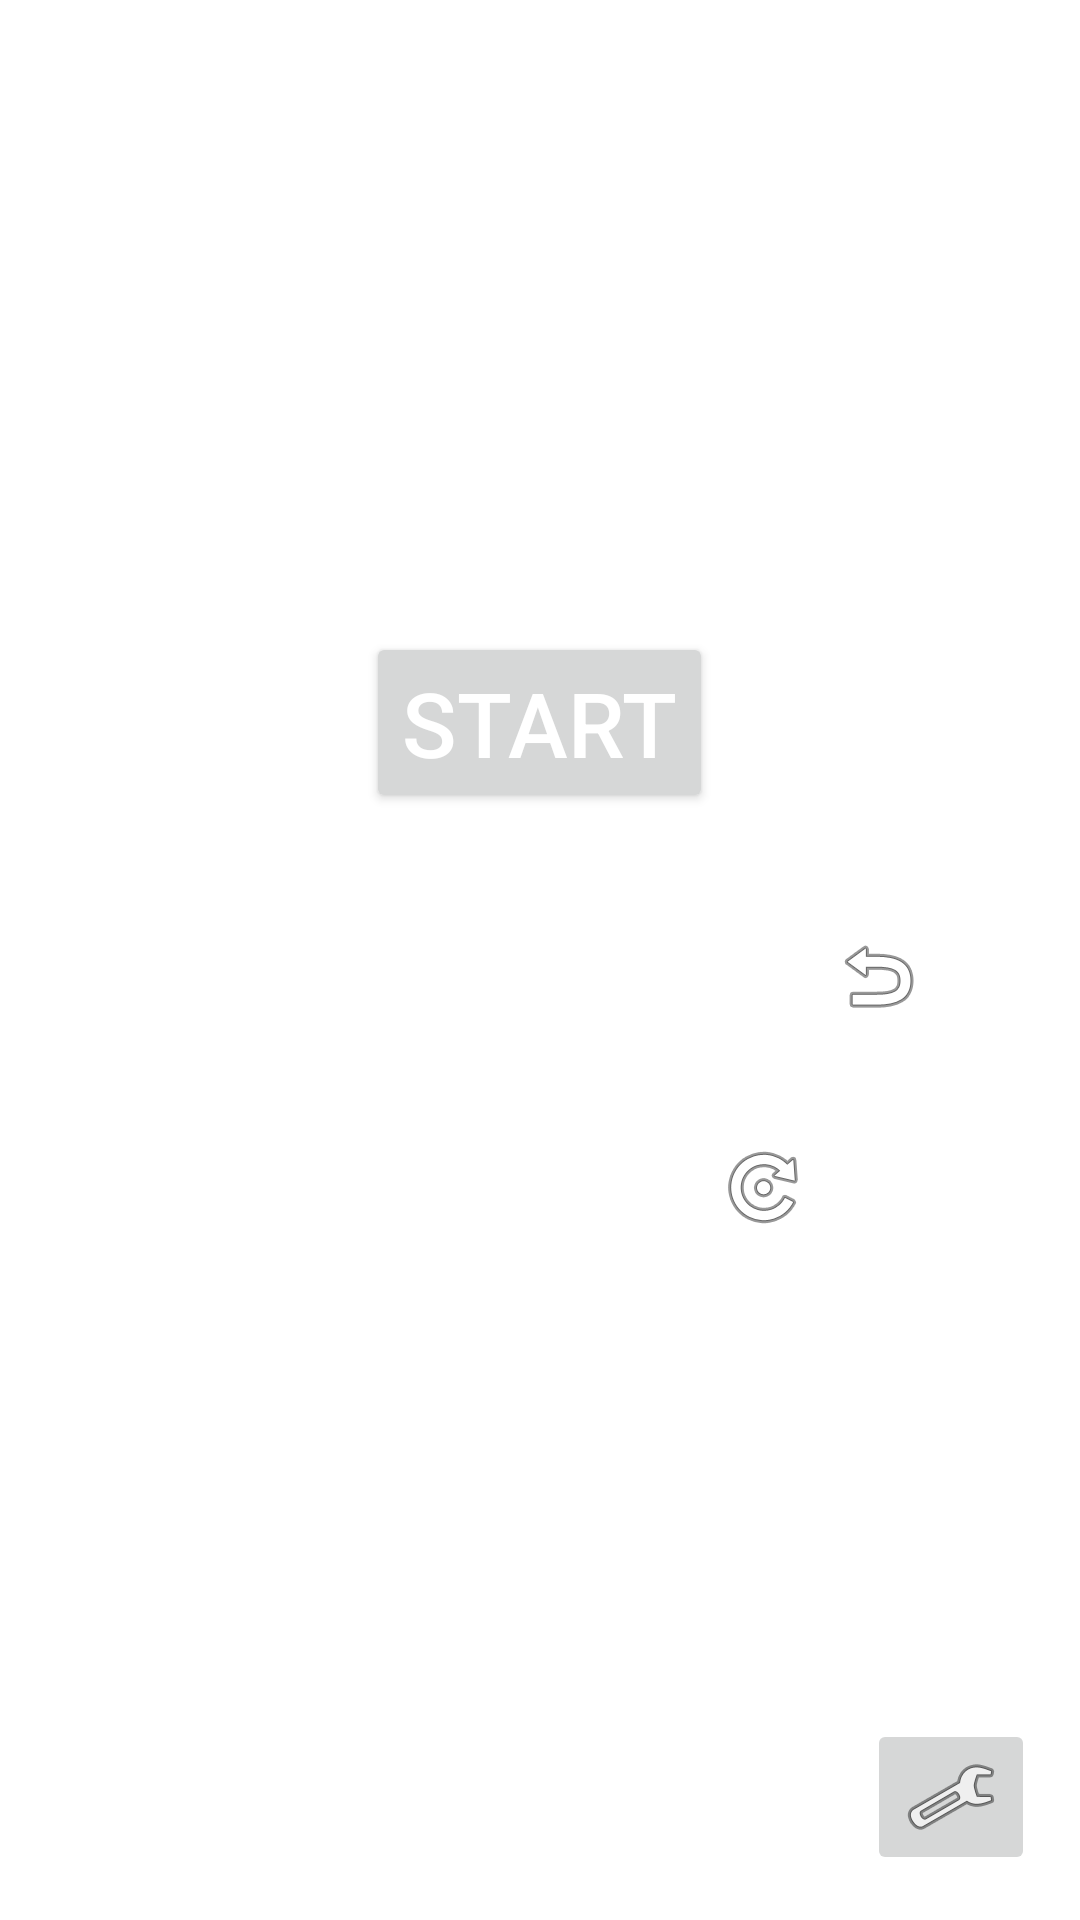

Named icons in this screenshot (1080w x 1920h) and their centers, (x,y):
preferences: (951,1797)
revert: (879,976)
rotate: (763,1187)
